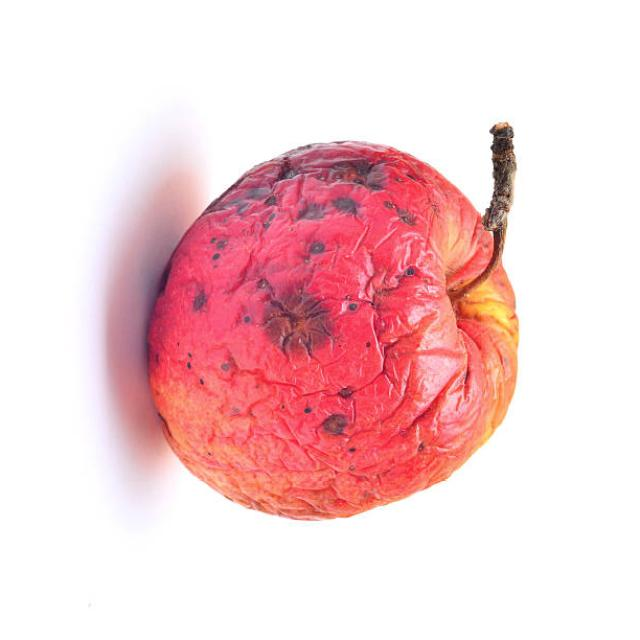overripe: (145, 134, 524, 525)
